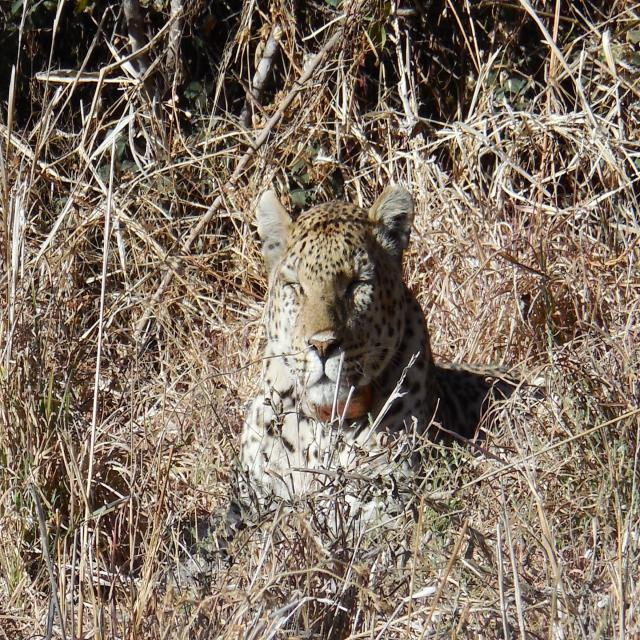Leopard: (270, 180, 468, 467)
